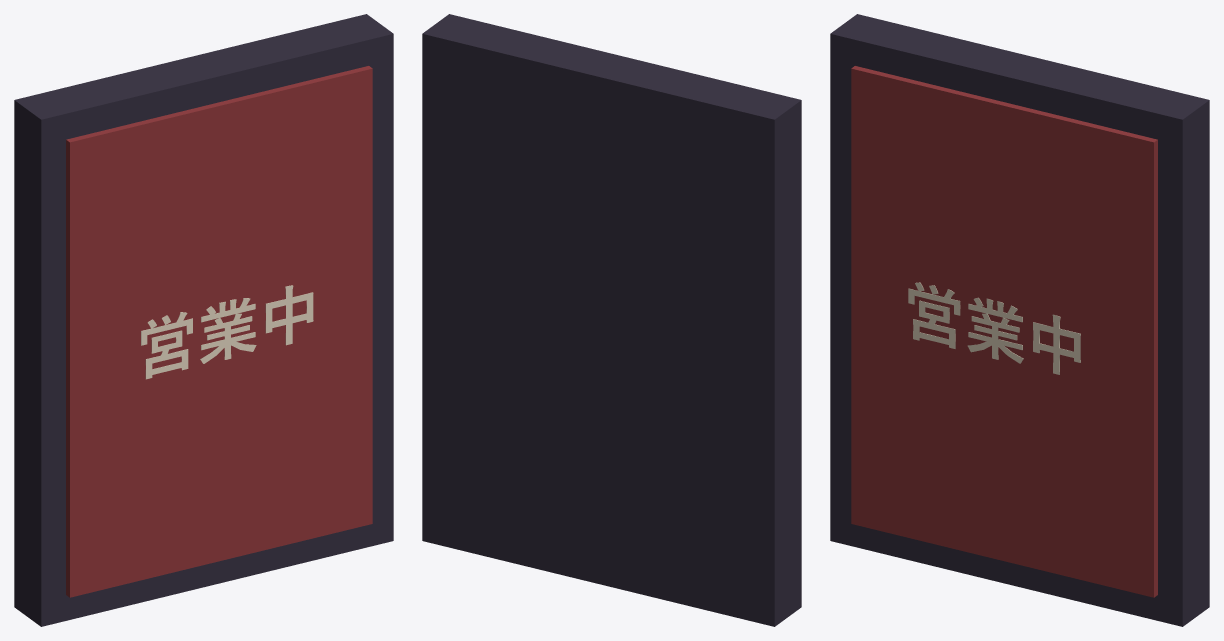
The model's file is SM_Sign_Open.fbx.
3 views of the same model, side by side, from view 1: azimuth 30°, elevation 25°; view 2: azimuth 150°, elevation 25°; view 3: azimuth 330°, elevation 25° (orthographic).
Visible parts, largest first — view 1: SM_Sign_Open; view 2: SM_Sign_Open; view 3: SM_Sign_Open.
Part boxes in pixels (x1,y1,x2,y2): SM_Sign_Open: (14,14,393,626); SM_Sign_Open: (422,14,801,626); SM_Sign_Open: (830,14,1209,626).
Bounding box in the file's own units: 0.64 × 0.1194 × 0.88.
